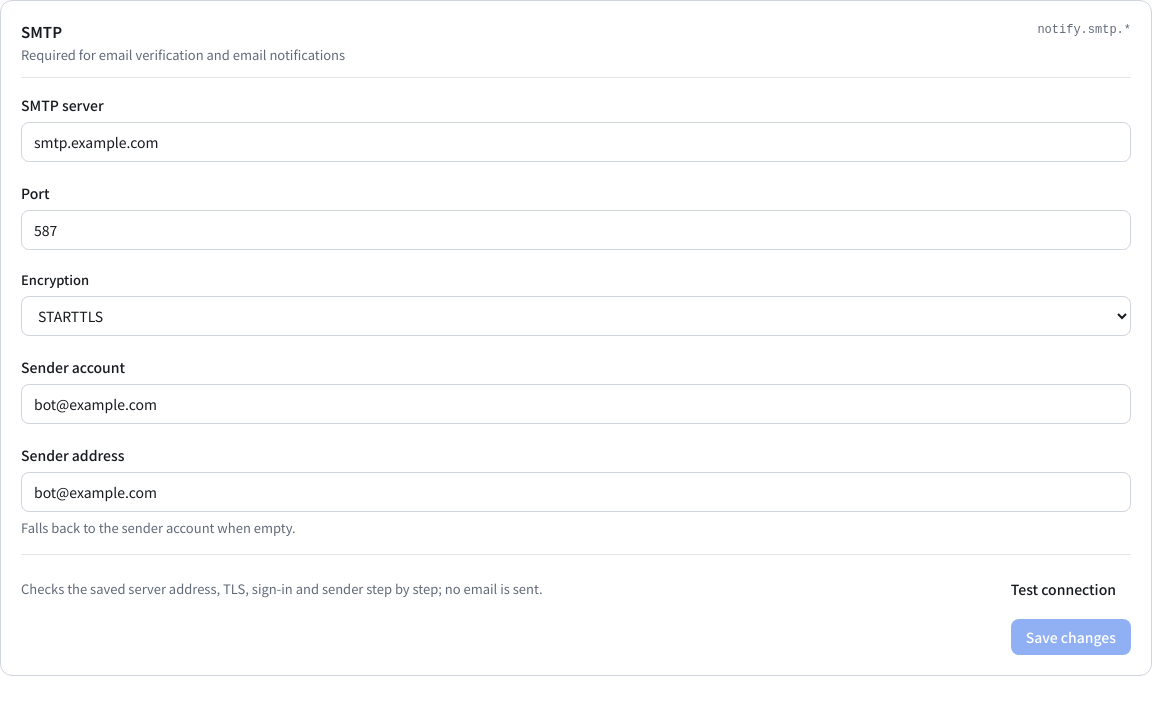
Test case: SMTP settings section › explains a 422 when the saved configuration is incomplete
Step 1. Click the button "Test connection" → (1063, 589), box top-left (996, 571), bottom-right (1131, 607)
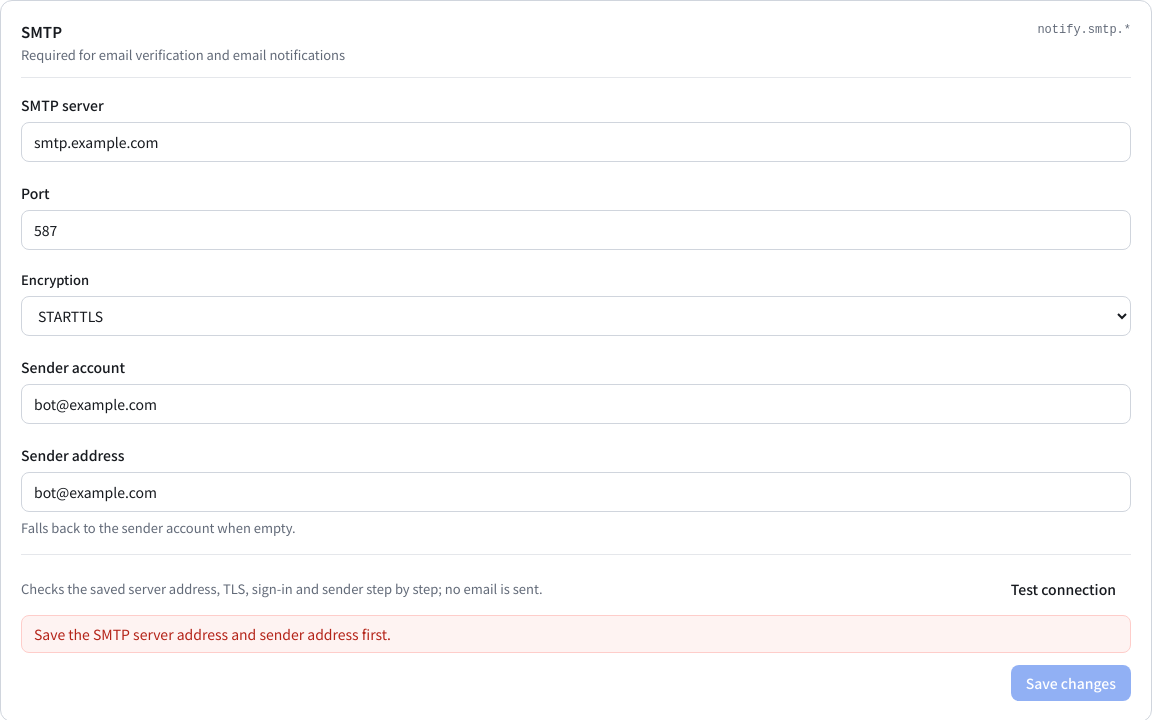
expect the text "Save the SMTP server address and sender address first." is shown: met, box top-left (21, 615), bottom-right (1131, 653)
